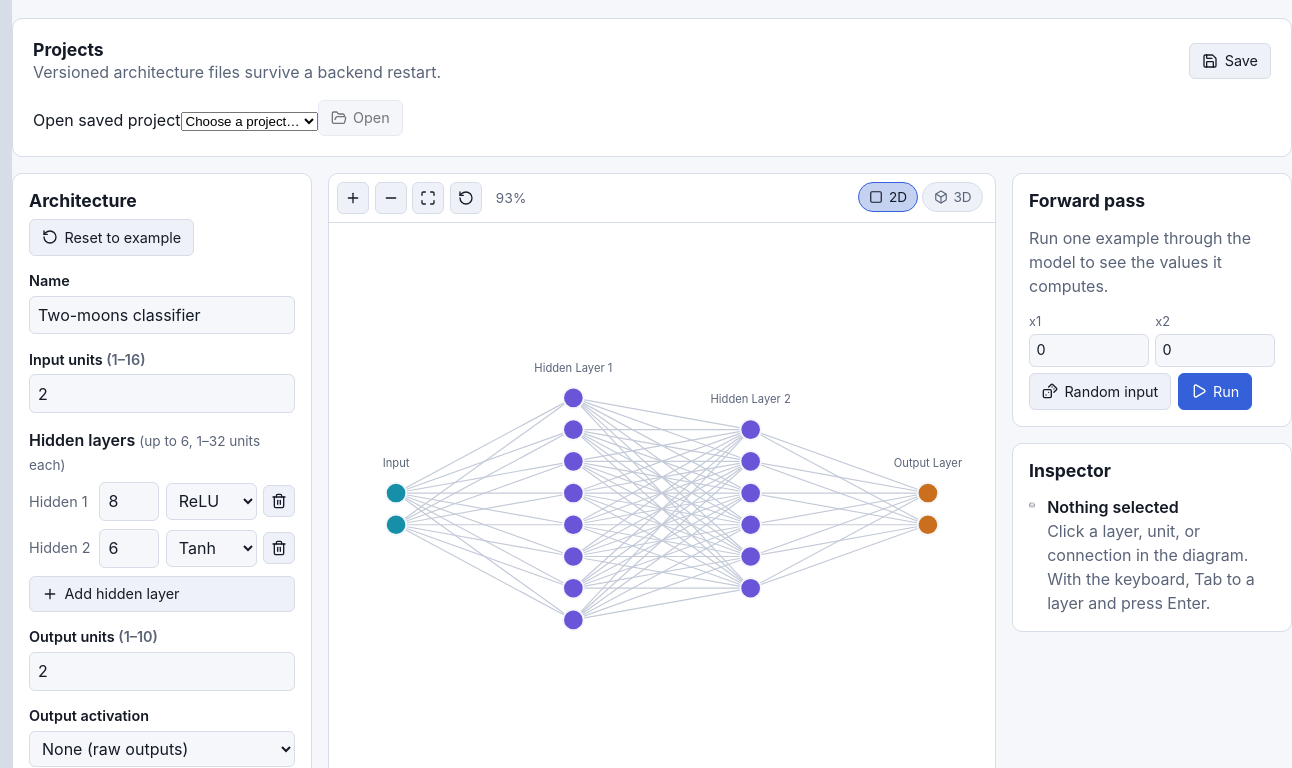
Scenario: Forward pass in the studio › runs the inputs through the model and shades units by measured value
The width and height of the screenshot is (1292, 768).
Expected: the button "Hidden Layer 1, 8 units" is shown, [534,361,612,375]
Replace the text in the number field named "Input 1" with "2" at (1089, 350), box [1029,334,1149,367]
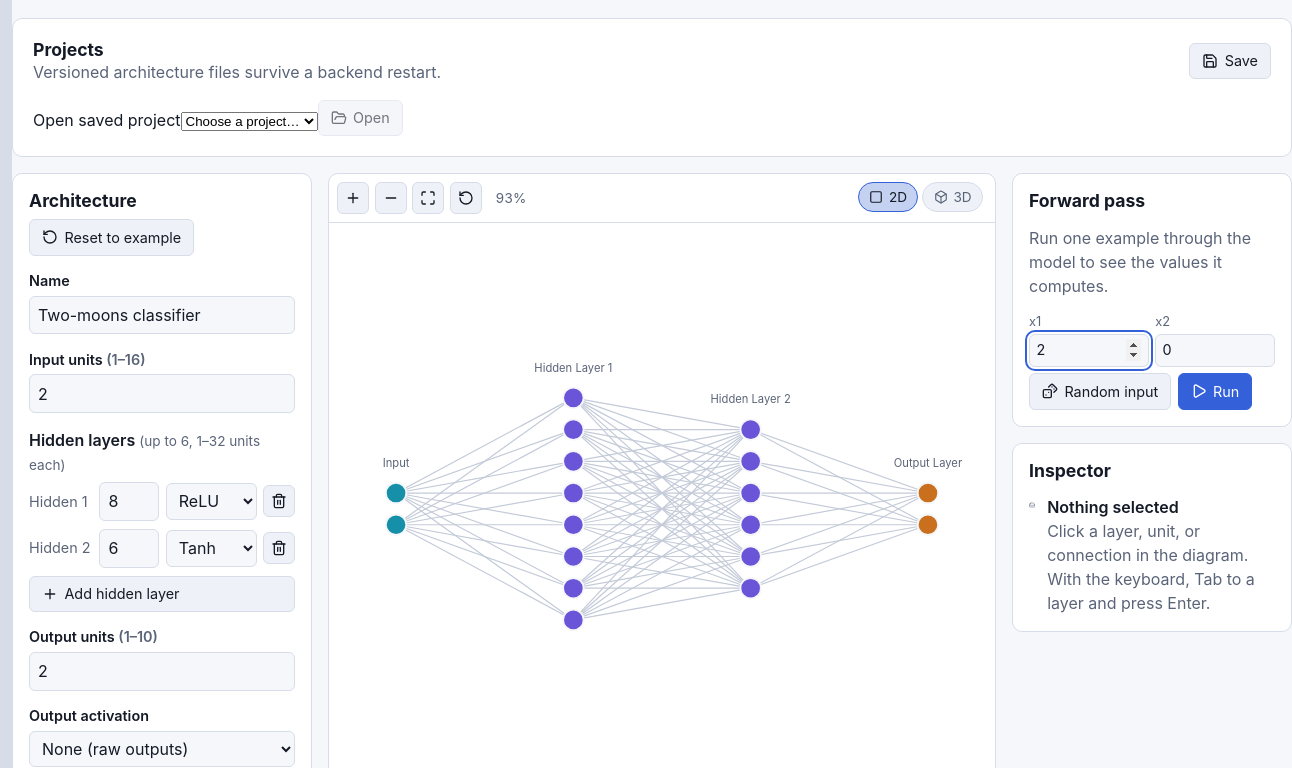
Replace the text in the number field named "Input 2" with "-1" at (1215, 350), box [1155,334,1275,367]
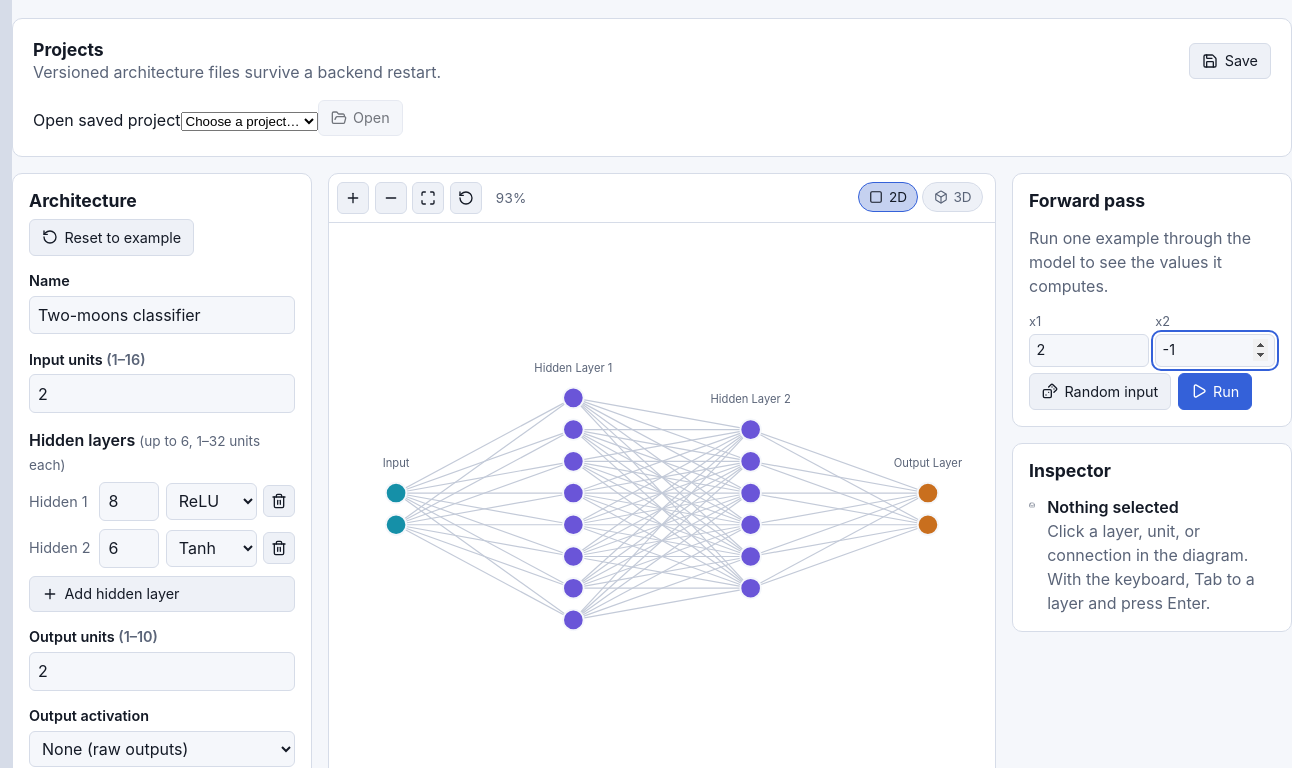
Click the button "Run" at (1215, 391), box [1178,373,1252,410]
(page scrolled)
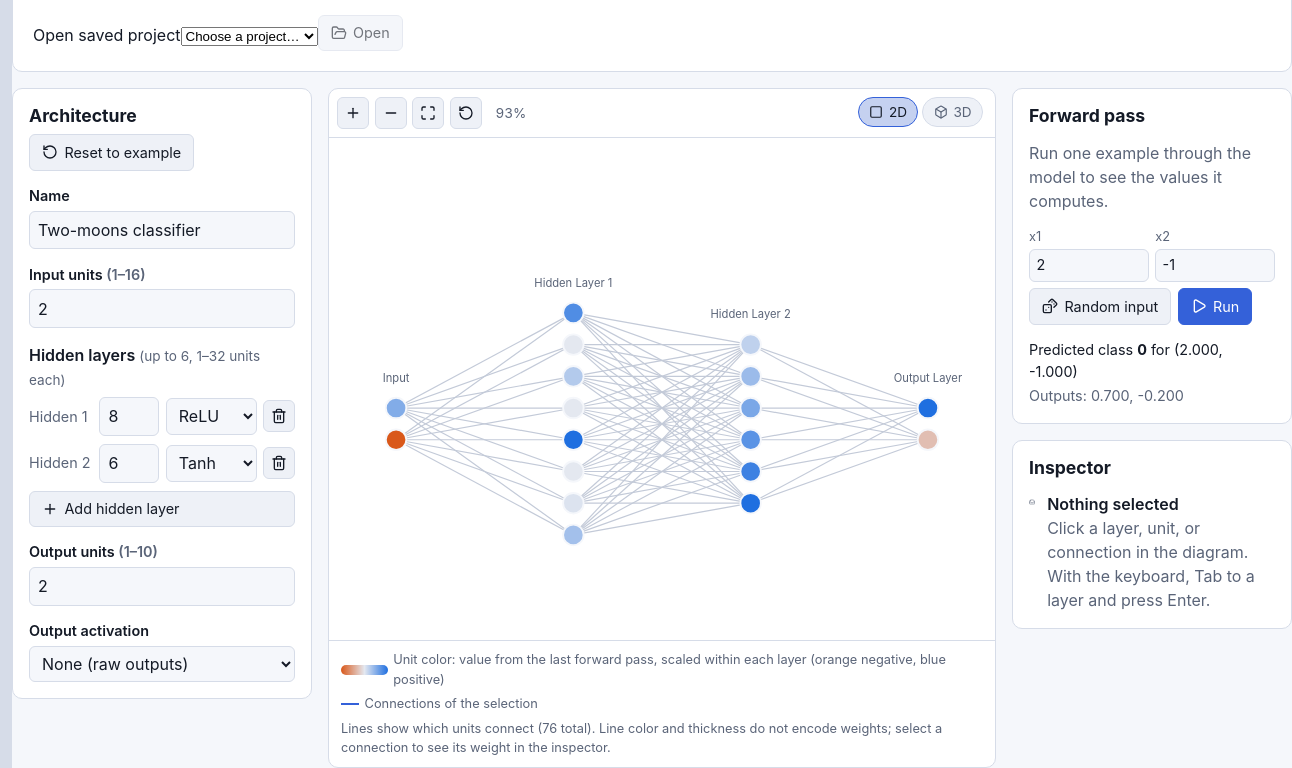
Now the text "Predicted class 0 for (2.000, -1.000)" is shown, box [1029,341,1223,380]
Now the text "value from the last forward pass, scaled within each layer" is shown, box [393,652,946,687]
